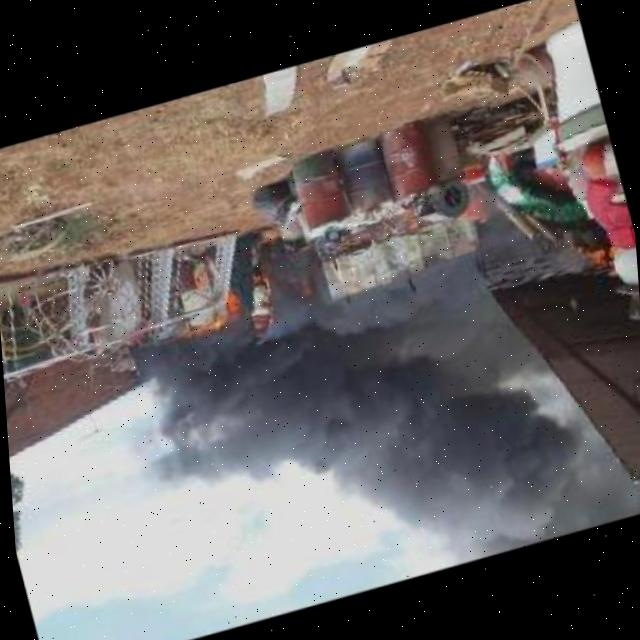fire: (577, 241, 619, 281), (179, 315, 224, 341), (457, 201, 491, 227)
